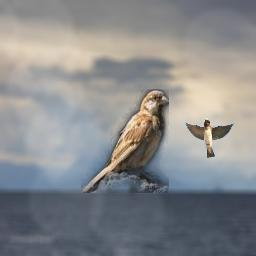Sparrow: (81, 89, 169, 193)
Swallow: (182, 118, 235, 158)
